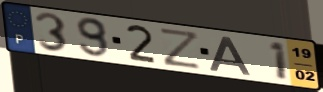1: (268, 40, 292, 83)
2: (125, 25, 157, 66)
3: (34, 11, 70, 54)
9: (74, 16, 112, 60)
A: (208, 35, 253, 77)
Z: (158, 26, 203, 71)
